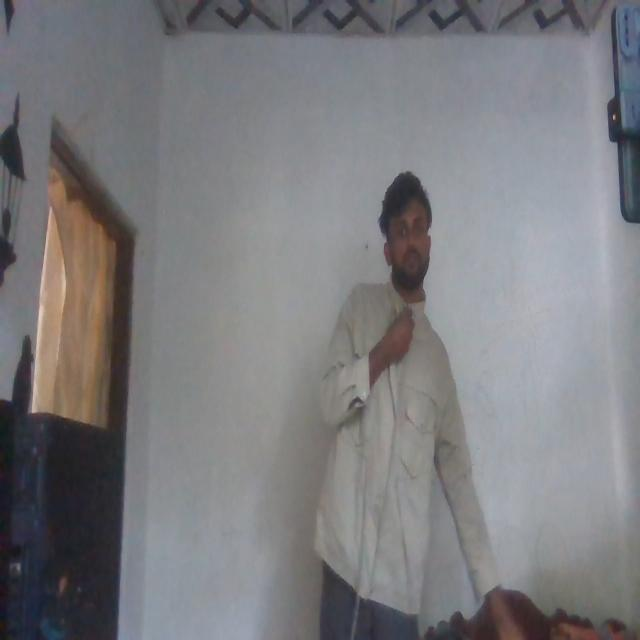Jacket_Wearer: (313, 280, 472, 585)
Person: (309, 162, 489, 640)
